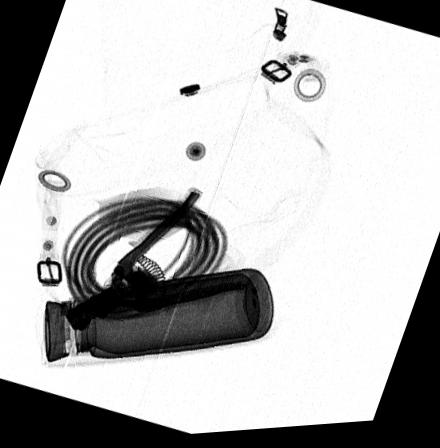Pliers: (63, 188, 248, 336)
